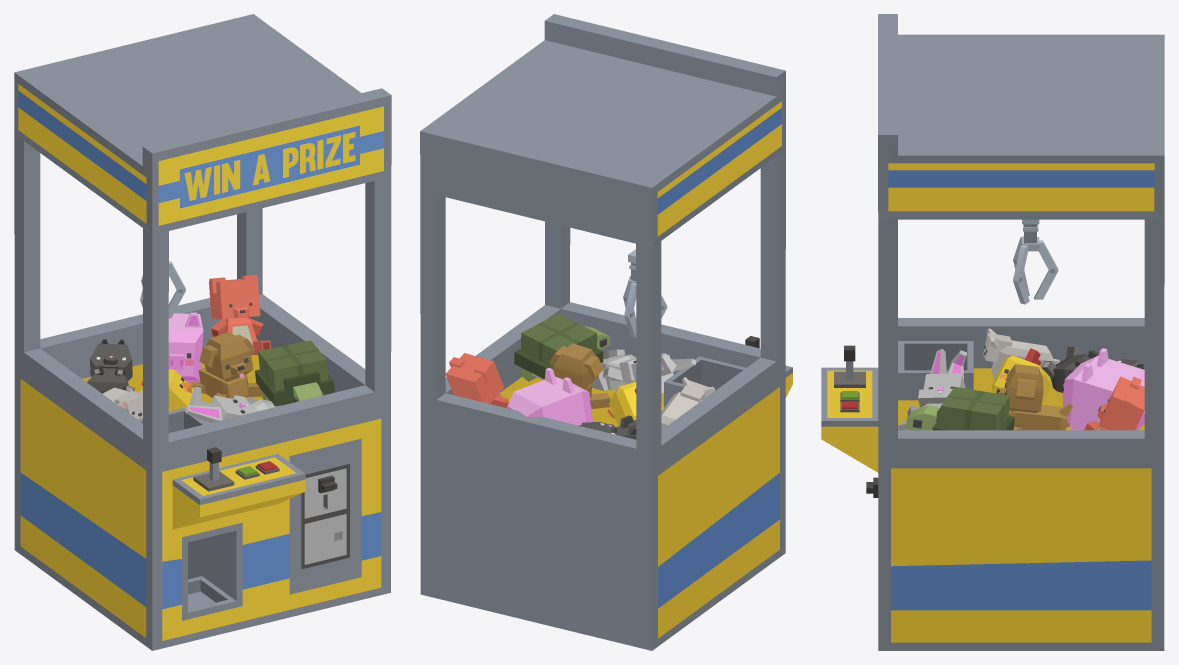
The model's file is ClawMachine.glb.
3 renders of one model, left to right at view 1: azimuth 30°, elevation 25°; view 2: azimuth 150°, elevation 25°; view 3: azimuth 270°, elevation 25°, orthographic. The views are drawn at different scales.
Parts seen in each view (by area): view 1: SI_Prop_ClawMachine_01, SI_Prop_ClawMachine_Toys; view 2: SI_Prop_ClawMachine_01, SI_Prop_ClawMachine_Toys; view 3: SI_Prop_ClawMachine_01, SI_Prop_ClawMachine_Toys, SI_Prop_ClawMachine_Claw_03, SI_Prop_ClawMachine_Claw_01, SI_Prop_ClawMachine_ClawBody.
Part boxes in pixels (bbox=[...]): SI_Prop_ClawMachine_01: bbox=[14, 14, 391, 650]; SI_Prop_ClawMachine_Toys: bbox=[87, 275, 334, 423]; SI_Prop_ClawMachine_01: bbox=[420, 14, 792, 650]; SI_Prop_ClawMachine_Toys: bbox=[445, 313, 714, 439]; SI_Prop_ClawMachine_01: bbox=[821, 14, 1164, 650]; SI_Prop_ClawMachine_Toys: bbox=[898, 328, 1144, 430]; SI_Prop_ClawMachine_Claw_03: bbox=[1034, 240, 1058, 299]; SI_Prop_ClawMachine_Claw_01: bbox=[1013, 245, 1029, 304]; SI_Prop_ClawMachine_ClawBody: bbox=[1022, 219, 1039, 251].
Bounding box in the file's own units: 0.0193 × 0.0382 × 0.0231.
Materials: 1 (1 with a texture image).
